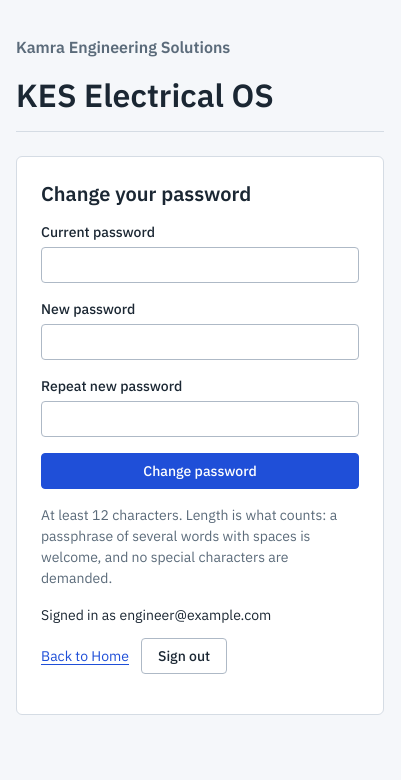
Test: ChangePasswordPage › refuses the first password / Engineer@Example.com / Engineer@Example.com before anything is sent
The image size is (401, 780).
Type "the first password" into the password field labelled "Current password" at (200, 265), box [41,247,359,283]
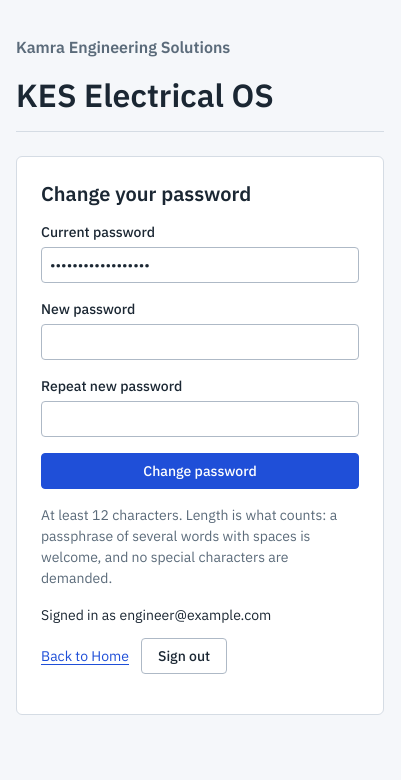
Type "Engineer@Example.com" into the password field labelled "New password" at (200, 342), box [41,324,359,360]
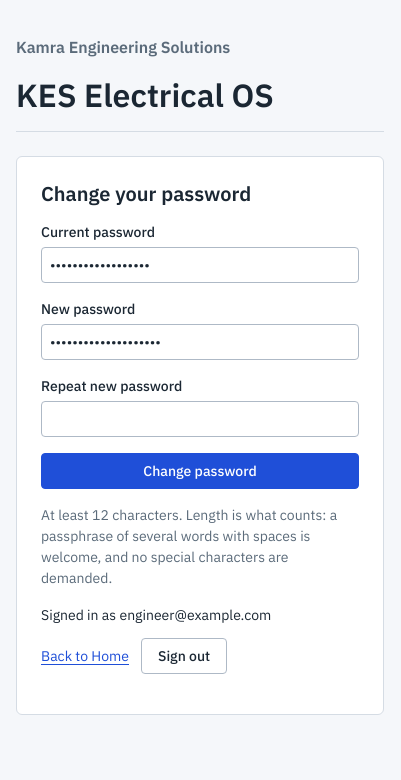
Type "Engineer@Example.com" into the password field labelled "Repeat new password" at (200, 419), box [41,401,359,437]
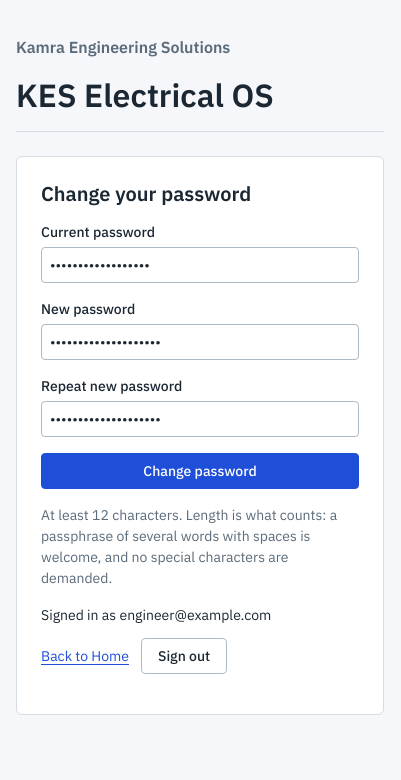
Click the button "Change password" at (200, 471), box [41,453,359,489]
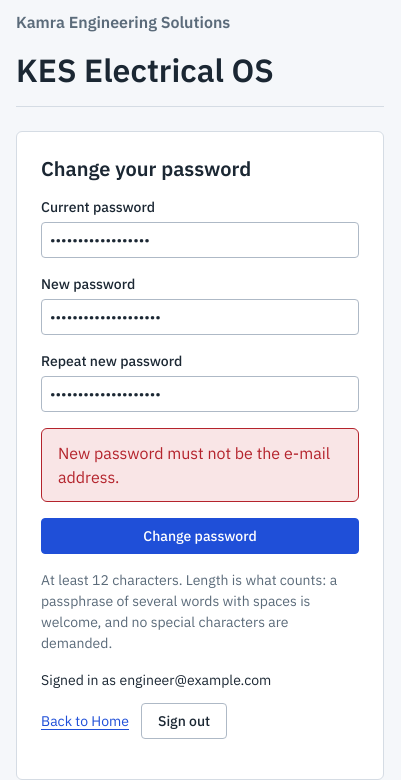
expect the message reads "New password must not be the e-mail address.": met, box [58,443,330,487]
